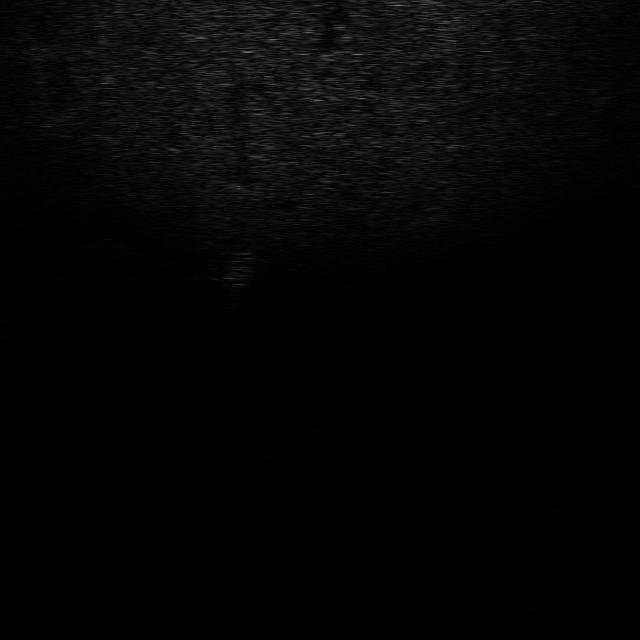human body: (214, 246, 252, 311)
